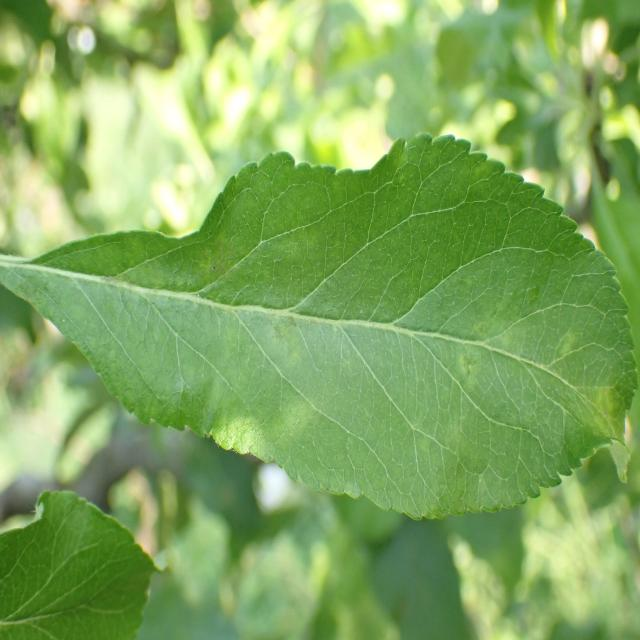scab: (65, 219, 629, 465)
